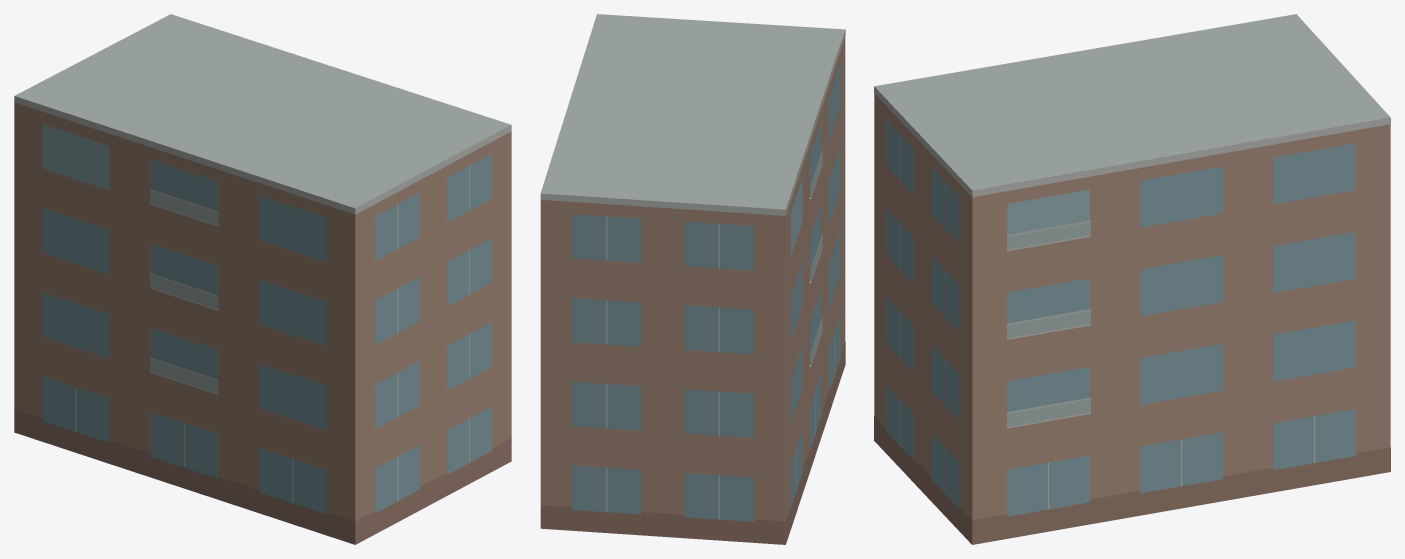
The model's file is survey-upis-32751057.glb.
The picture shows the model from 3 angles, left to right: view 1: azimuth 30°, elevation 25°; view 2: azimuth 150°, elevation 25°; view 3: azimuth 270°, elevation 25°; orthographic projection. The views are drawn at different scales.
Visible parts, largest first — view 1: survey-upis-32751057.tmp; view 2: survey-upis-32751057.tmp; view 3: survey-upis-32751057.tmp.
Part boxes in pixels (x1=…): survey-upis-32751057.tmp: x1=14, y1=14, x2=511, y2=544; survey-upis-32751057.tmp: x1=540, y1=14, x2=845, y2=544; survey-upis-32751057.tmp: x1=874, y1=14, x2=1390, y2=544.
Bounding box in the file's own units: 13.79 × 12.9 × 17.05.
